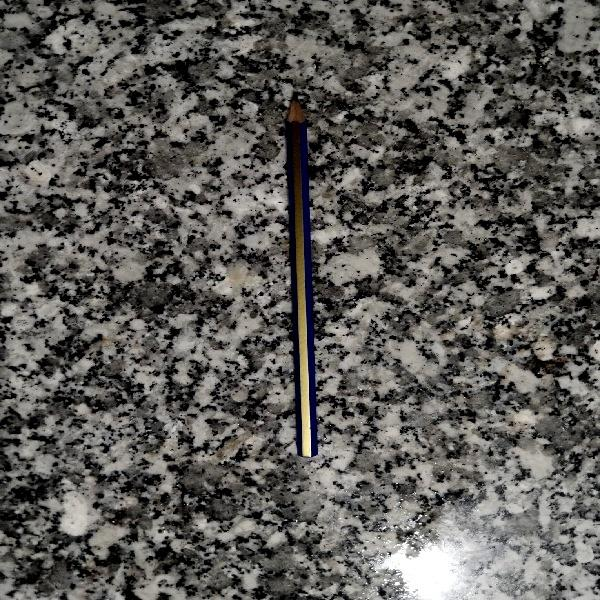pencil: (286, 93, 324, 463)
